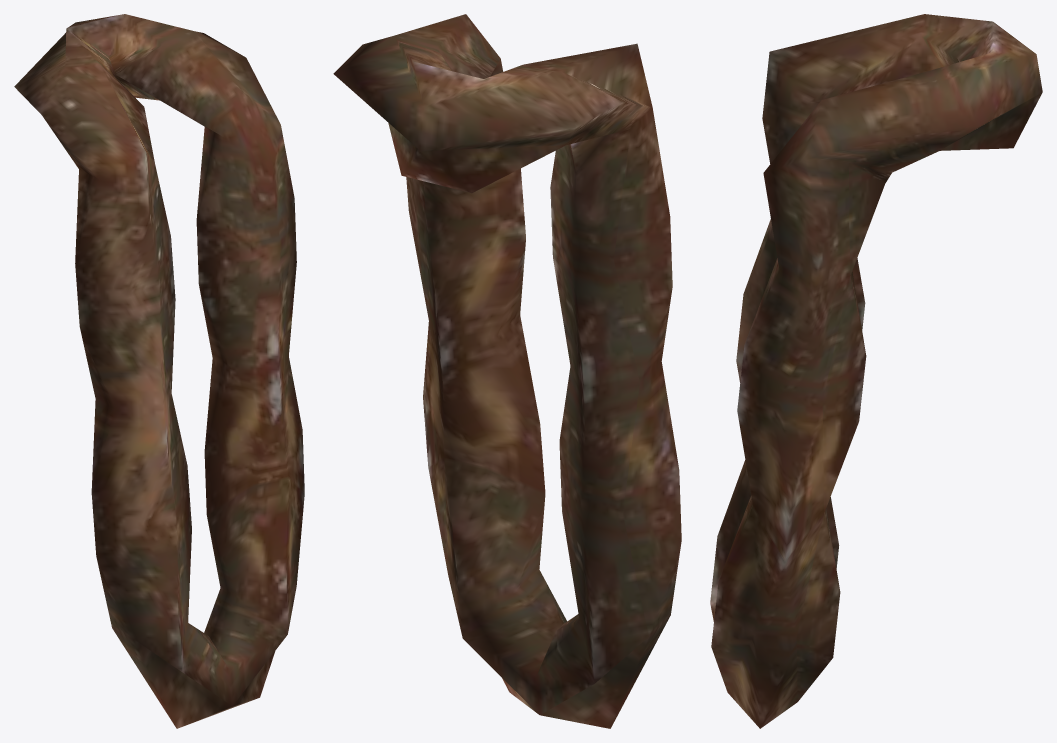
File: ship_chain_bar_hook.glb
3 renders of one model, left to right at view 1: azimuth 30°, elevation 25°; view 2: azimuth 150°, elevation 25°; view 3: azimuth 270°, elevation 25°, orthographic. The views are drawn at different scales.
Parts seen in each view (by area): view 1: ship_chain_bar_hook; view 2: ship_chain_bar_hook; view 3: ship_chain_bar_hook.
Part boxes in pixels (box(x1,y1,x2,y2)): ship_chain_bar_hook: box(14, 14, 304, 728); ship_chain_bar_hook: box(333, 14, 681, 728); ship_chain_bar_hook: box(710, 14, 1042, 728).
Size of the model in its own units: 0.2174 by 0.5849 by 0.2618.
Materials: 1 (1 with a texture image).
